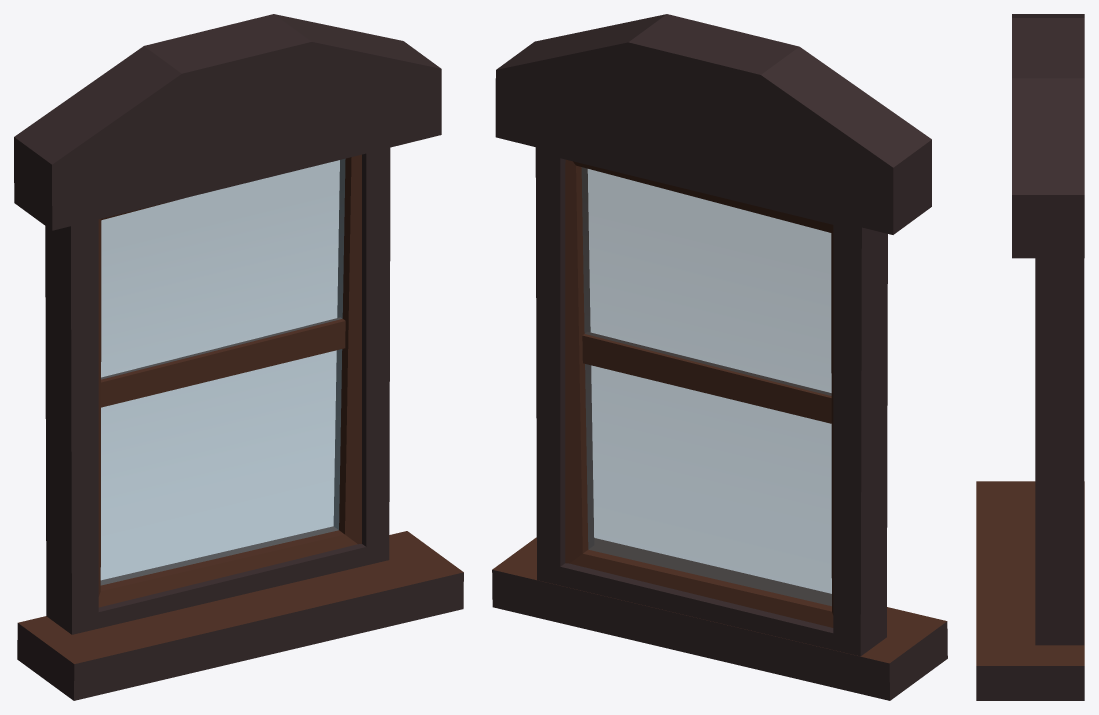
File: Window 1x2 V4 Closed.glb
3 views of the same model, side by side, from view 1: azimuth 30°, elevation 25°; view 2: azimuth 150°, elevation 25°; view 3: azimuth 270°, elevation 25° (orthographic). The views are drawn at different scales.
Parts seen in each view (by area): view 1: Window 1x2 V4 Closed; view 2: Window 1x2 V4 Closed; view 3: Window 1x2 V4 Closed.
Boxes of the visible parts, x1,y1,x2,y2 form: Window 1x2 V4 Closed: (14, 14, 463, 700); Window 1x2 V4 Closed: (492, 14, 947, 700); Window 1x2 V4 Closed: (976, 14, 1084, 700).
Bounding box in the file's own units: 1.42 × 2.02 × 0.3537.
Materials: 2 (2 with a texture image).
